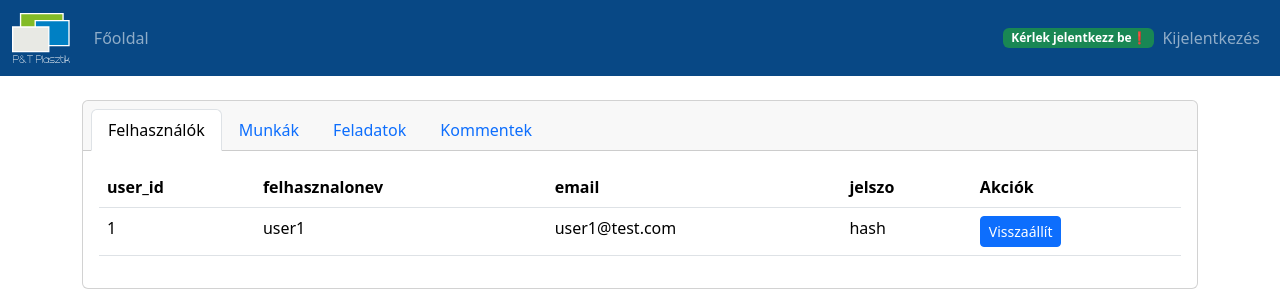
it: DeletedItems Component › Restore Functionality › should remove restored item from table
Expected: the text "user1" is shown, 255,208 -> 547,256
Click the button "Visszaállít" at (1021, 232), box 980,216 -> 1061,247
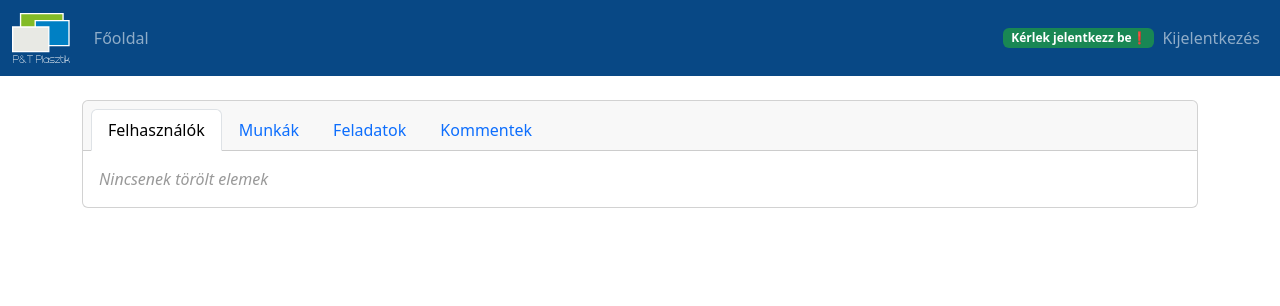
Now the text "user1" is gone
